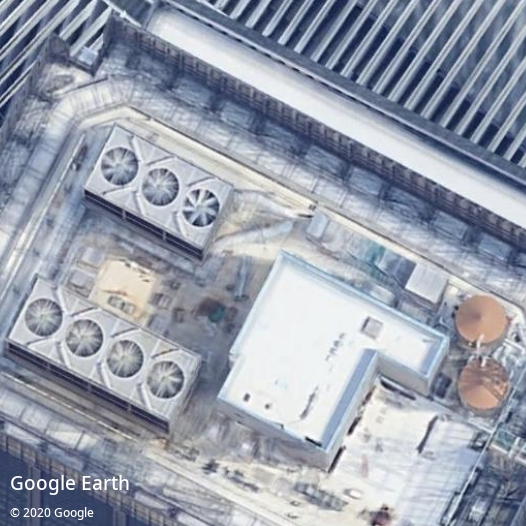Vent: (100, 146, 139, 186), (25, 297, 63, 336), (141, 168, 179, 206), (66, 319, 104, 357), (183, 189, 220, 227), (107, 340, 144, 377), (147, 361, 184, 398)
